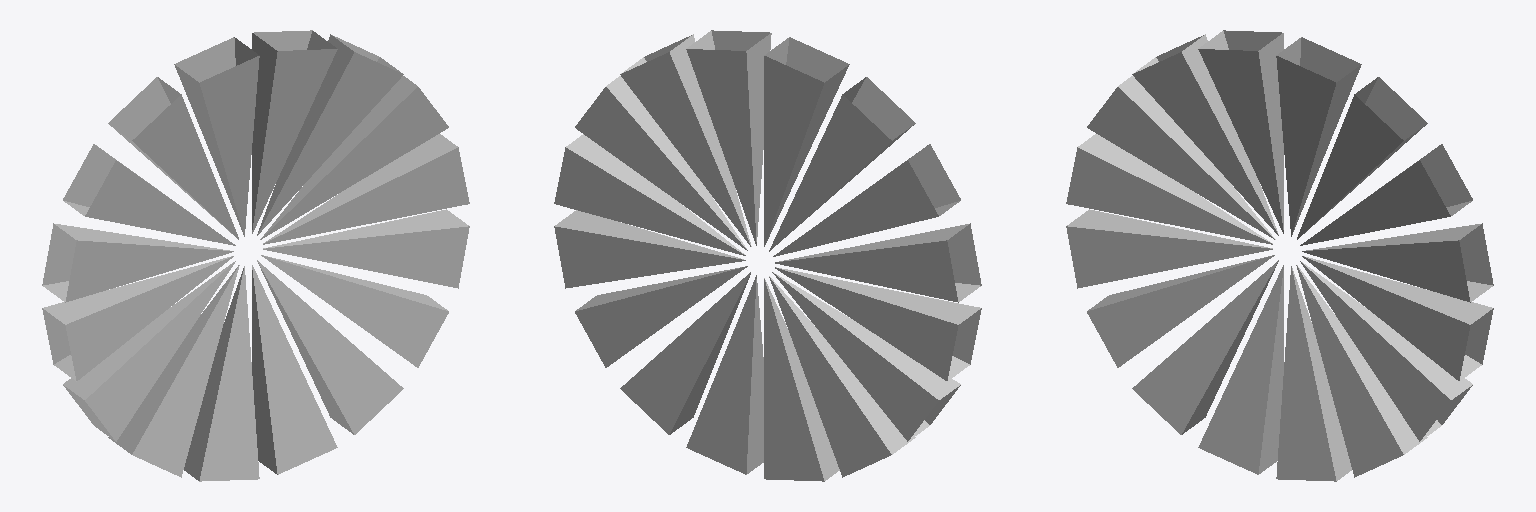
Rendered from gnawer_teeth_2.obj.
3 views of the same model, side by side, from view 1: azimuth 30°, elevation 25°; view 2: azimuth 150°, elevation 25°; view 3: azimuth 330°, elevation 25° (orthographic).
Visible parts, largest first — view 1: gnawer_teeth.002_Cylinder.003; view 2: gnawer_teeth.002_Cylinder.003; view 3: gnawer_teeth.002_Cylinder.003.
Part boxes in pixels (x1,y1,x2,y2): gnawer_teeth.002_Cylinder.003: (42, 30, 469, 481); gnawer_teeth.002_Cylinder.003: (554, 30, 981, 481); gnawer_teeth.002_Cylinder.003: (1066, 30, 1493, 481).
Size of the model in its own units: 2.64 by 2.64 by 0.2856.